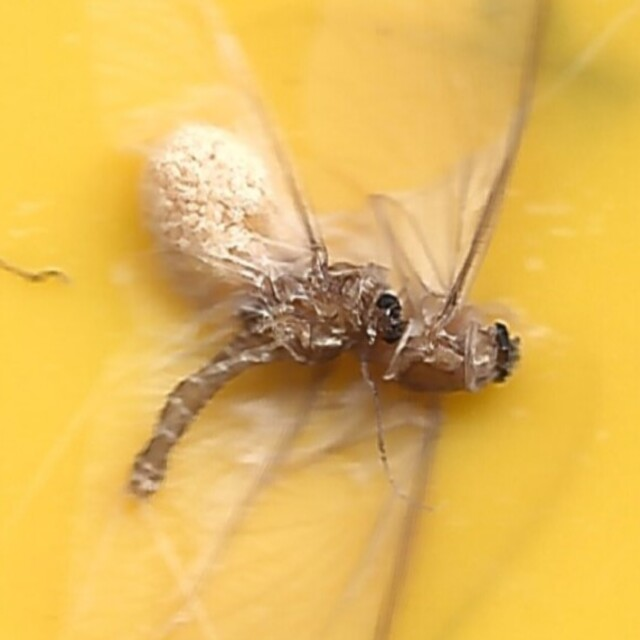Ephemeroptera: (152, 138, 528, 390), (112, 261, 410, 502)
